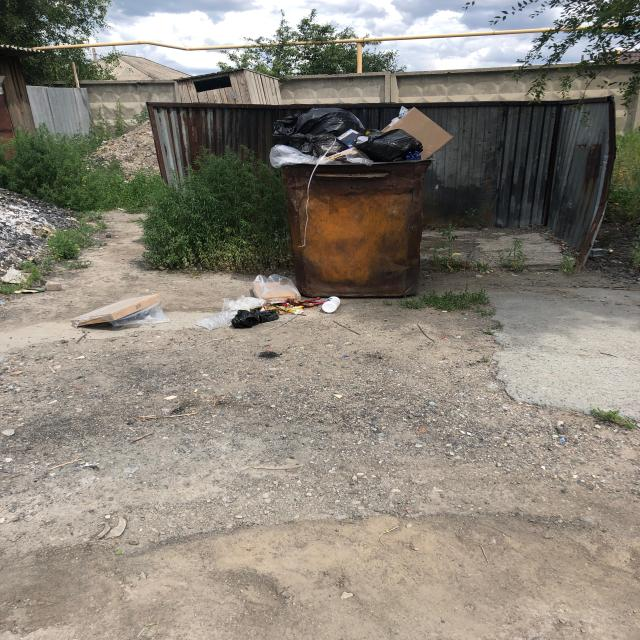bin: (266, 154, 448, 300)
trash: (277, 103, 444, 151)
